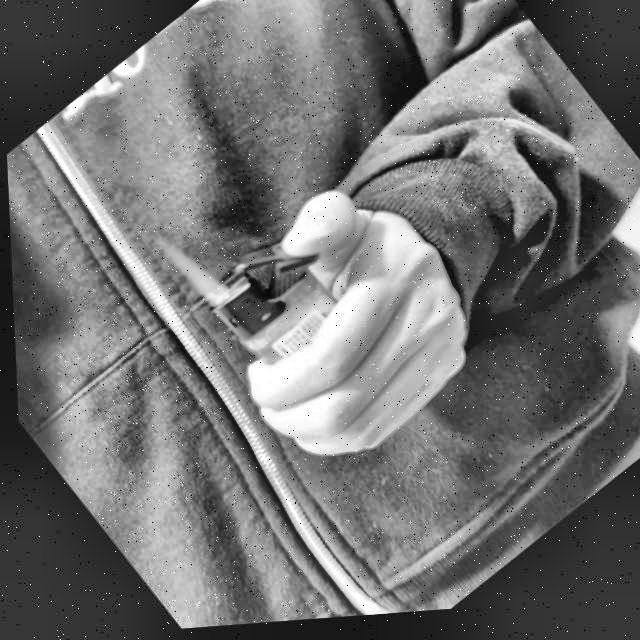Fire: (149, 217, 231, 318)
